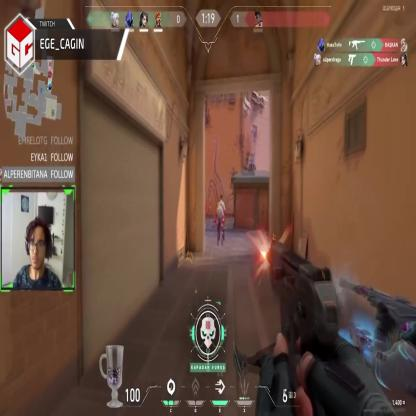enemy: (215, 196, 227, 241)
enemy_head: (220, 195, 222, 202)
